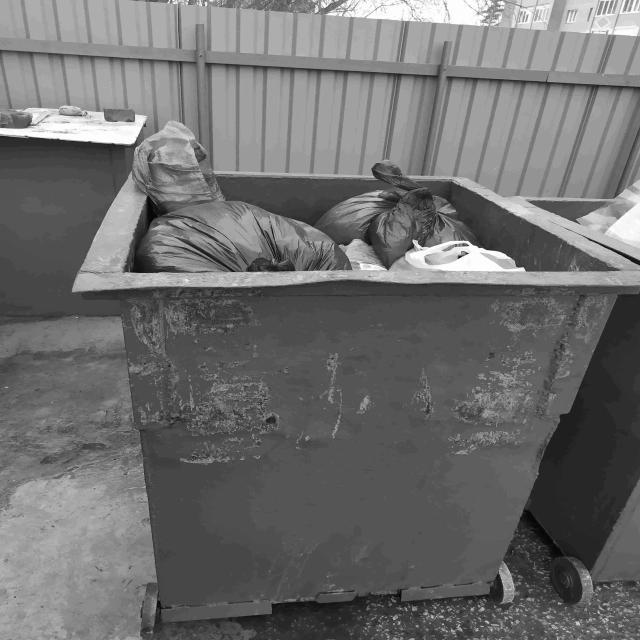bin: (83, 171, 636, 618)
plastic: (129, 119, 524, 270)
